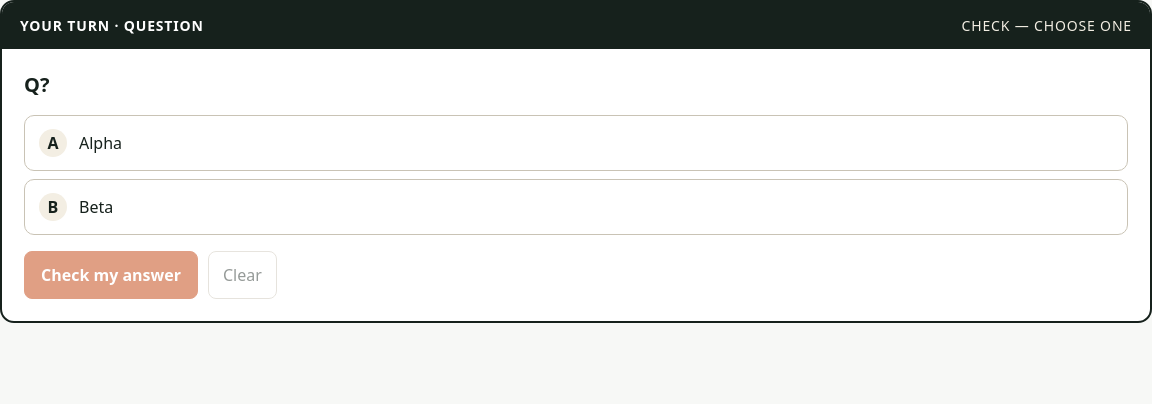
it: with a server (onSubmit) › shows Try again while tries remain
This screenshot has width=1152, height=404.
What coordinates should you click on to do the following:
click the button "A Alpha"
I would click on:
 (101, 143)
Its box is [24,115,1128,171].
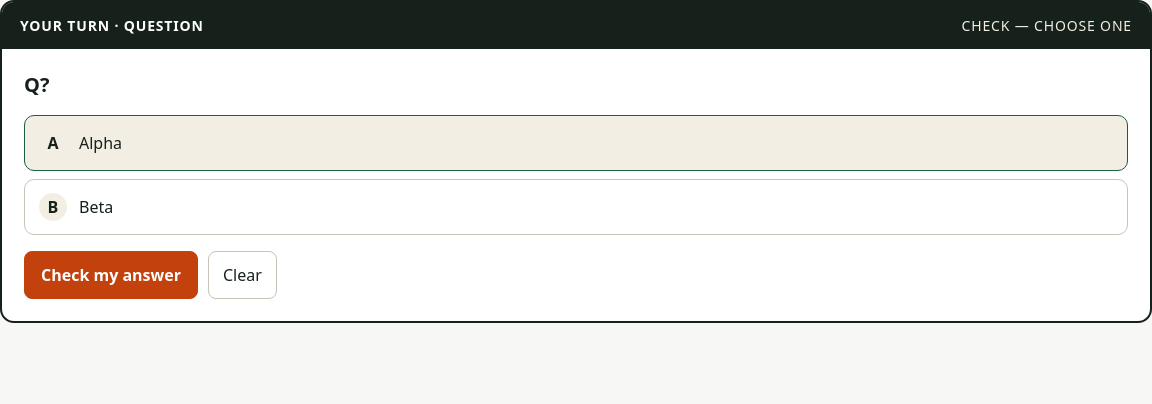
What coordinates should you click on to do the following:
click the button with test id "interaction-check"
I would click on:
 (111, 275)
Its box is [24,251,198,299].
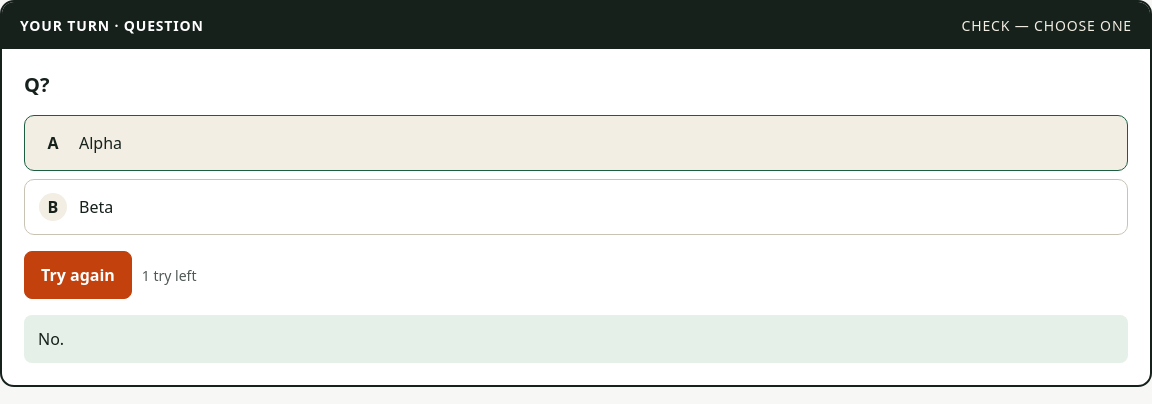
Result: the button with test id "interaction-try-again" is shown at [24,251,132,299]
Result: the text with test id "interaction-tries" reads "1 try left" at [142,266,196,284]
